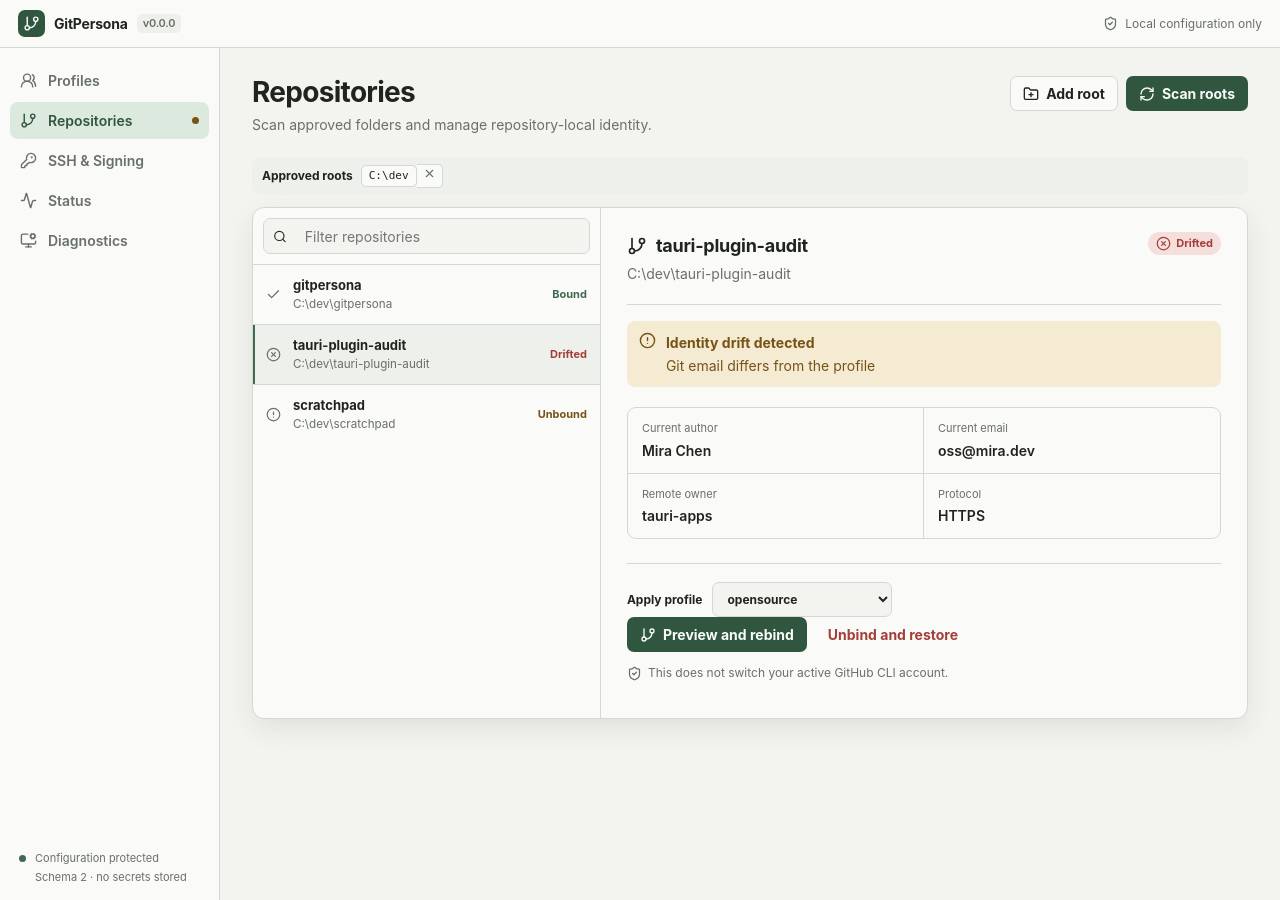
GitPersona app shell › requires confirmation before force-rebinding drift
The width and height of the screenshot is (1280, 900).
Click the button "Preview and rebind".
click(717, 635)  # box [627,617,807,652]
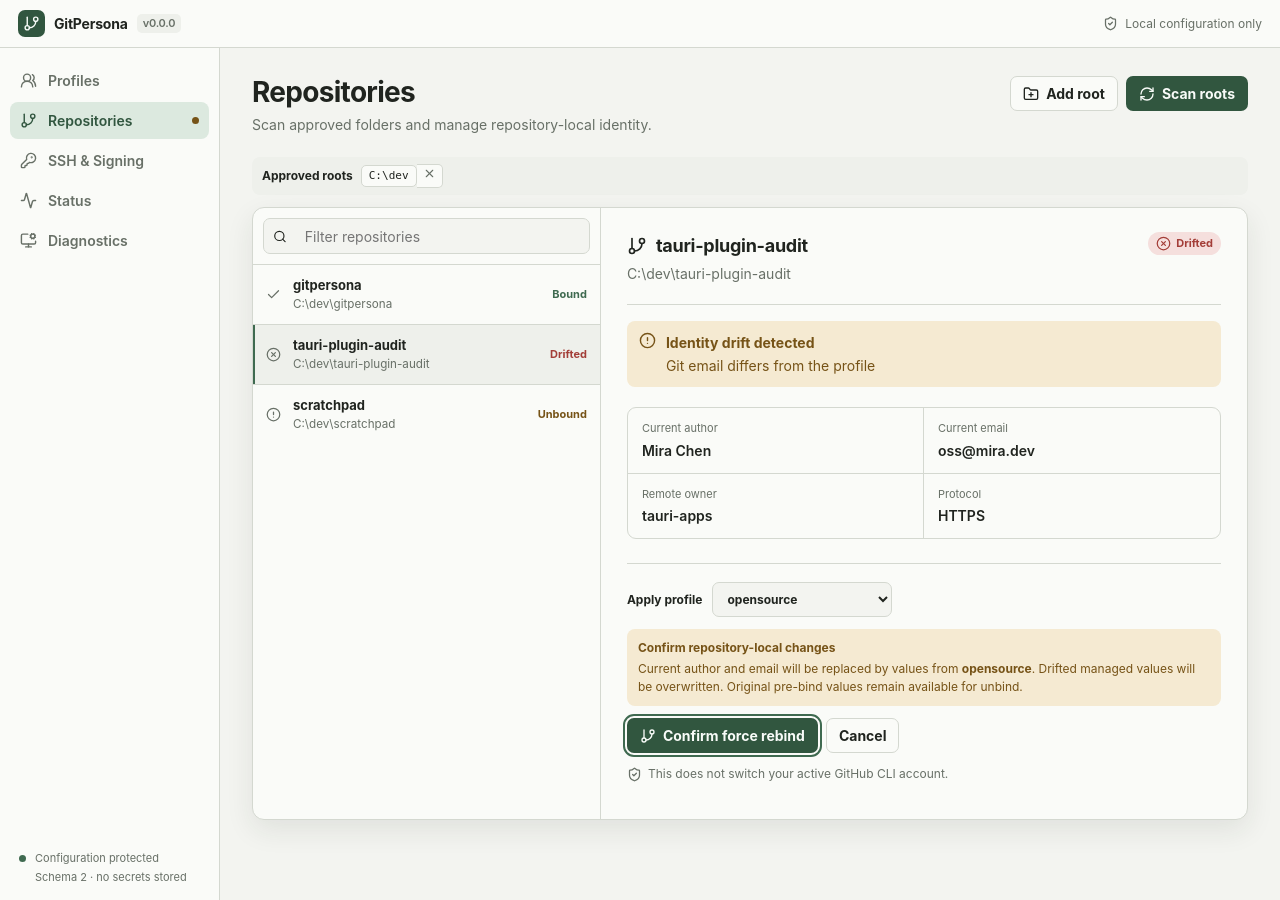
Check: the button "Confirm force rebind" is shown, box [627,718,818,753]
Check: the text "Confirm repository-local changes" is shown, box [638,640,836,655]
